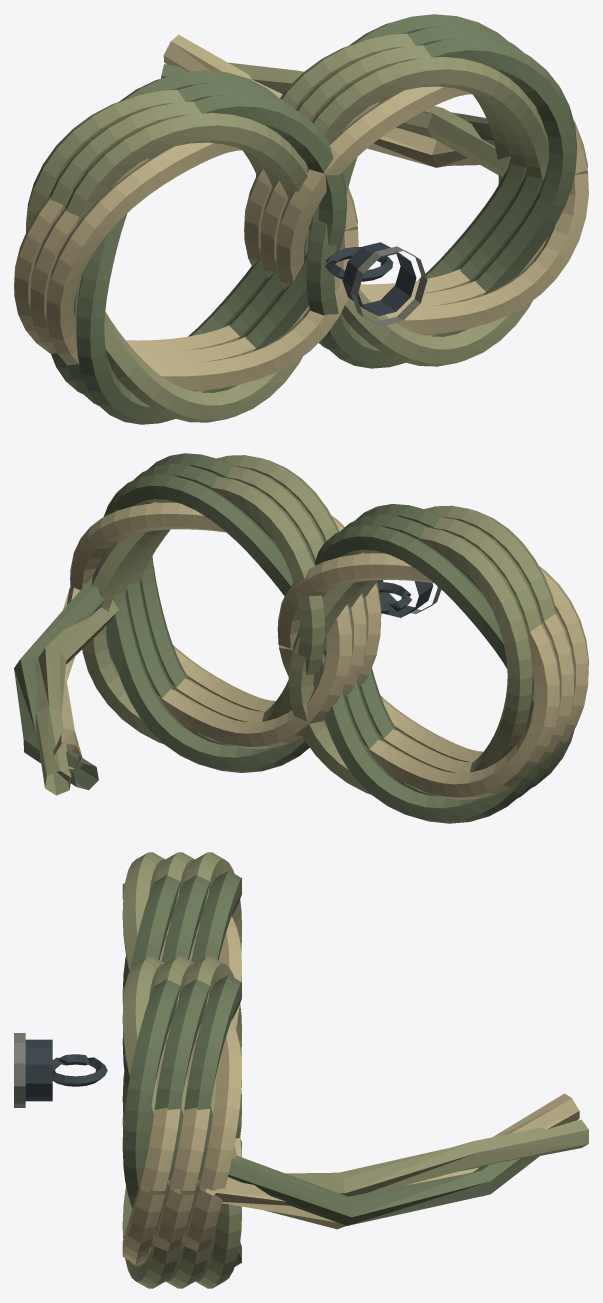
File: rope_stowed.obj
3 renders of one model, top to bottom at view 1: azimuth 30°, elevation 25°; view 2: azimuth 150°, elevation 25°; view 3: azimuth 270°, elevation 25°, orthographic. The views are drawn at different scales.
Bounding box in the file's own units: 0.3529 × 0.1953 × 0.3498.
